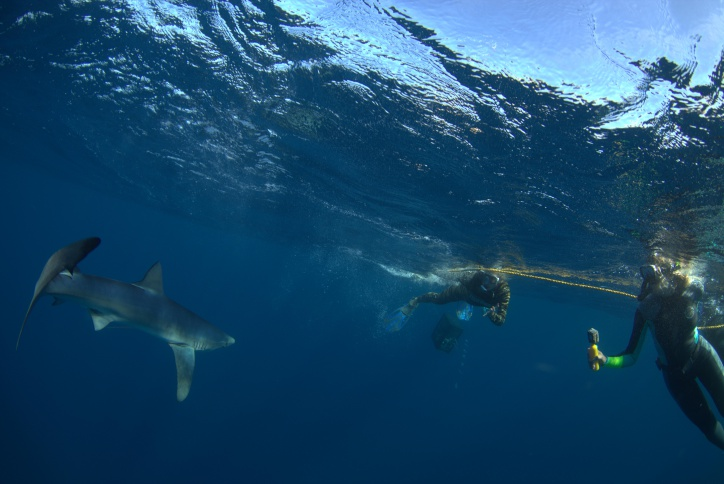Azul: (14, 221, 254, 414)
